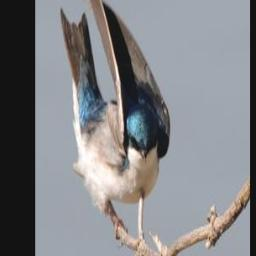Swallow: (59, 0, 171, 248)
